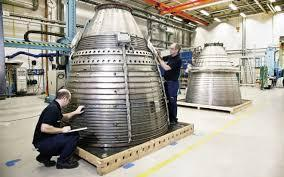thruster: (59, 6, 172, 150), (184, 44, 245, 109)
